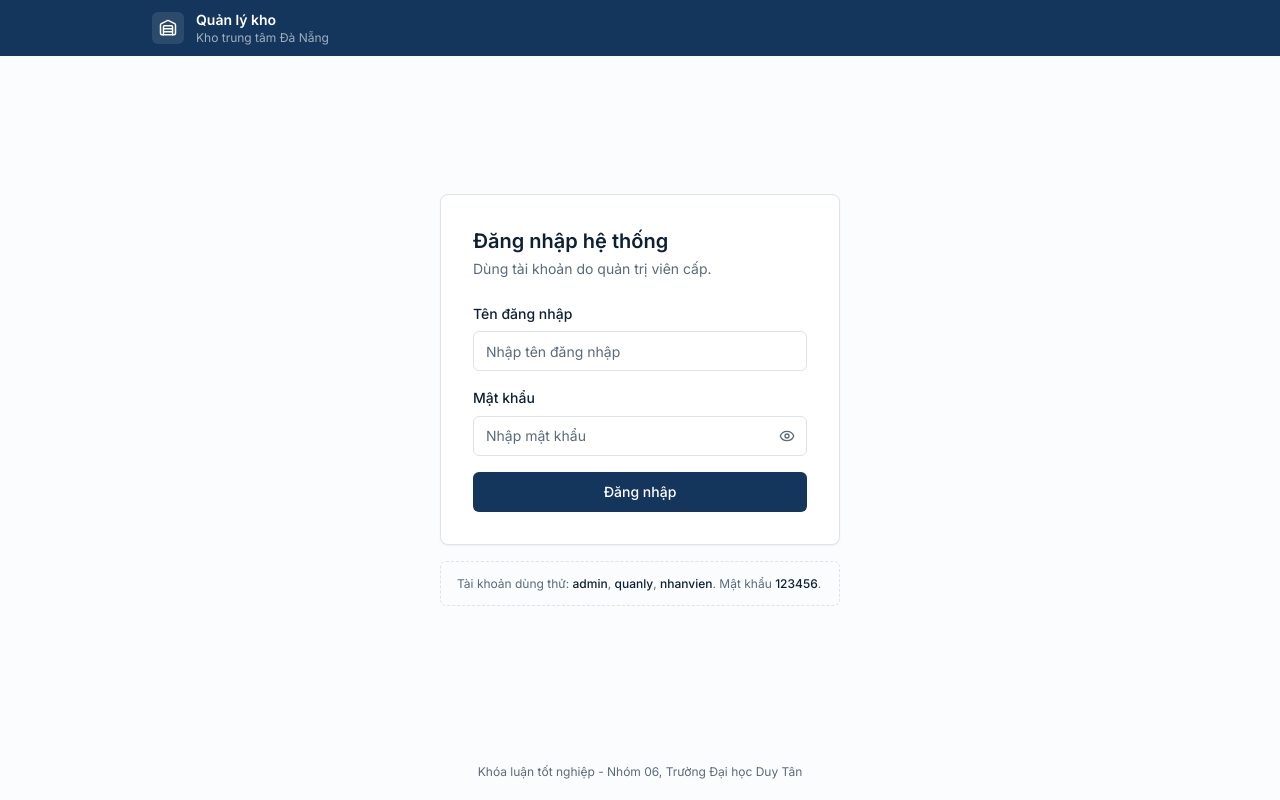
Test: LoginPage › hiển thị lỗi tại từng trường và không gửi API khi để trống tên đăng nhập hoặc mật khẩu
The width and height of the screenshot is (1280, 800).
Expected: the text "Tài khoản dùng thử:" is shown, [457,576,572,591]
Click the button "Đăng nhập" at [640, 492], box [473,472,807,512]
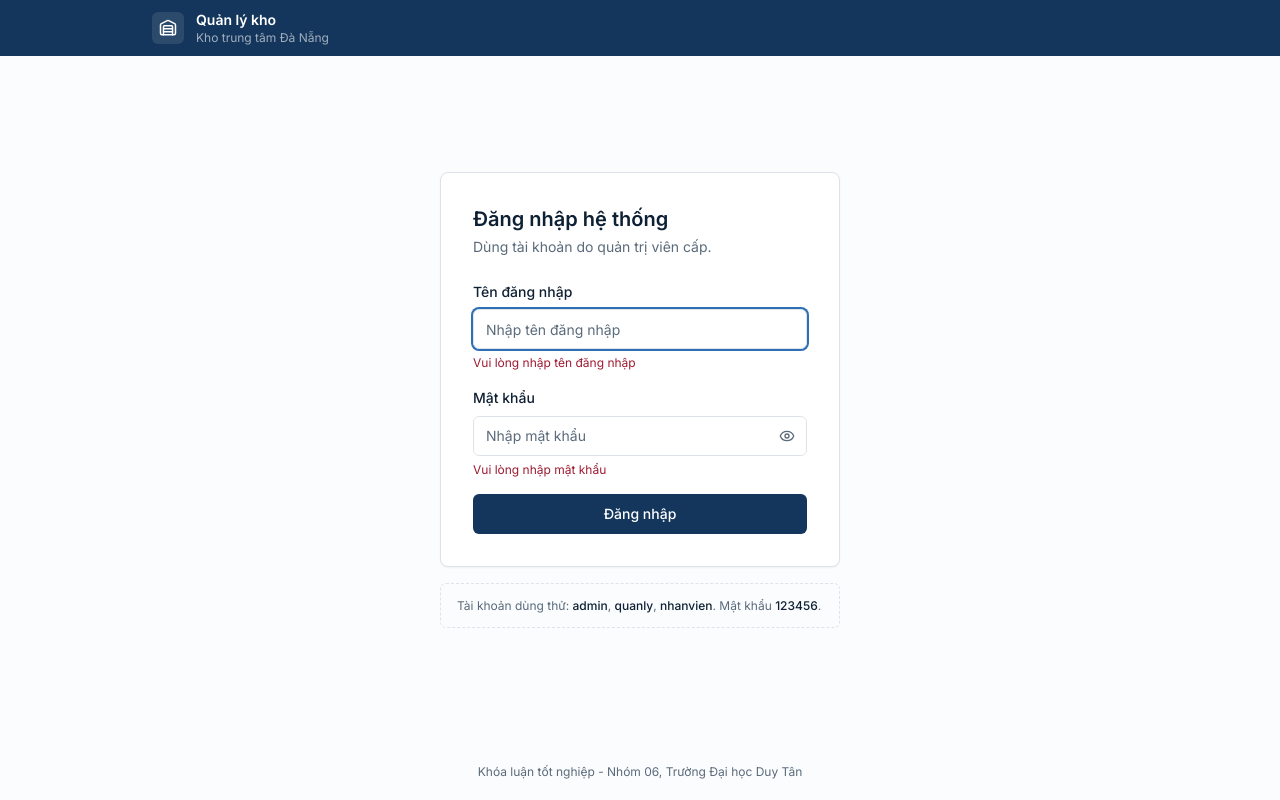
Now the text "Vui lòng nhập tên đăng nhập" is shown, box [473,355,636,370]
Now the text "Vui lòng nhập mật khẩu" is shown, box [473,462,606,477]
